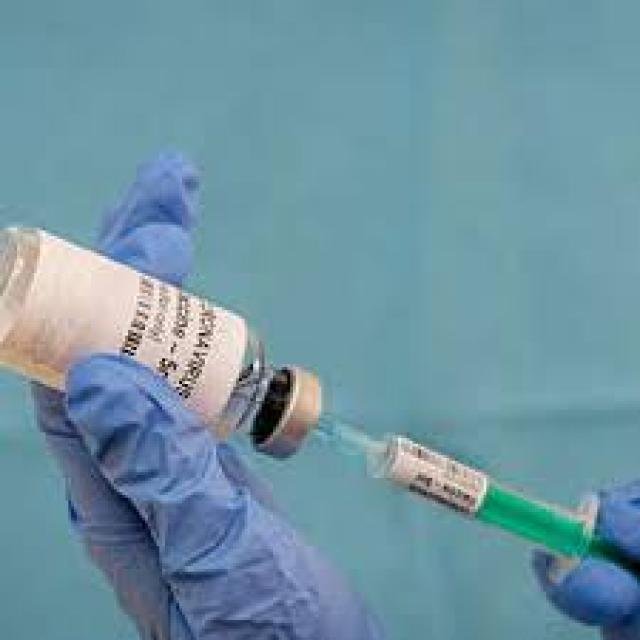syringe: (15, 197, 640, 569)
